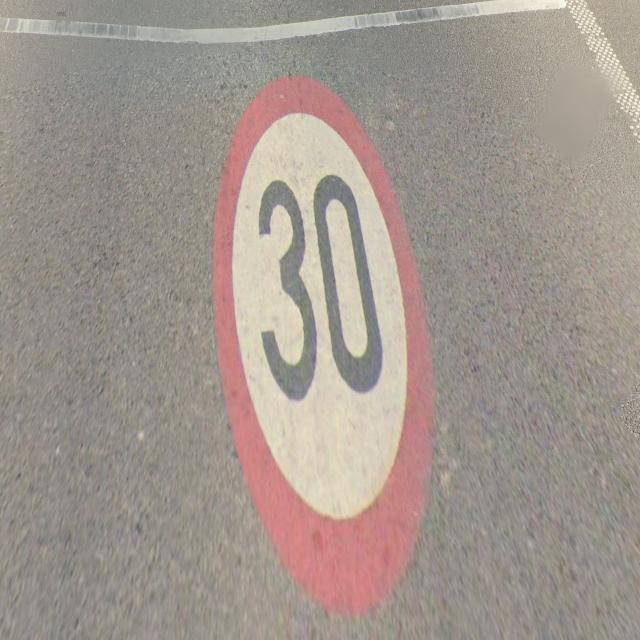forb_speed_over_30: (213, 71, 439, 614)
